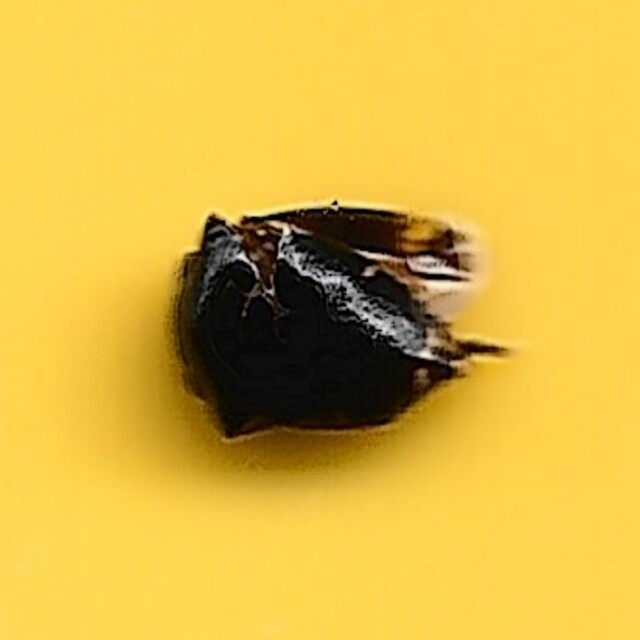Hemiptera: (155, 192, 485, 448)
